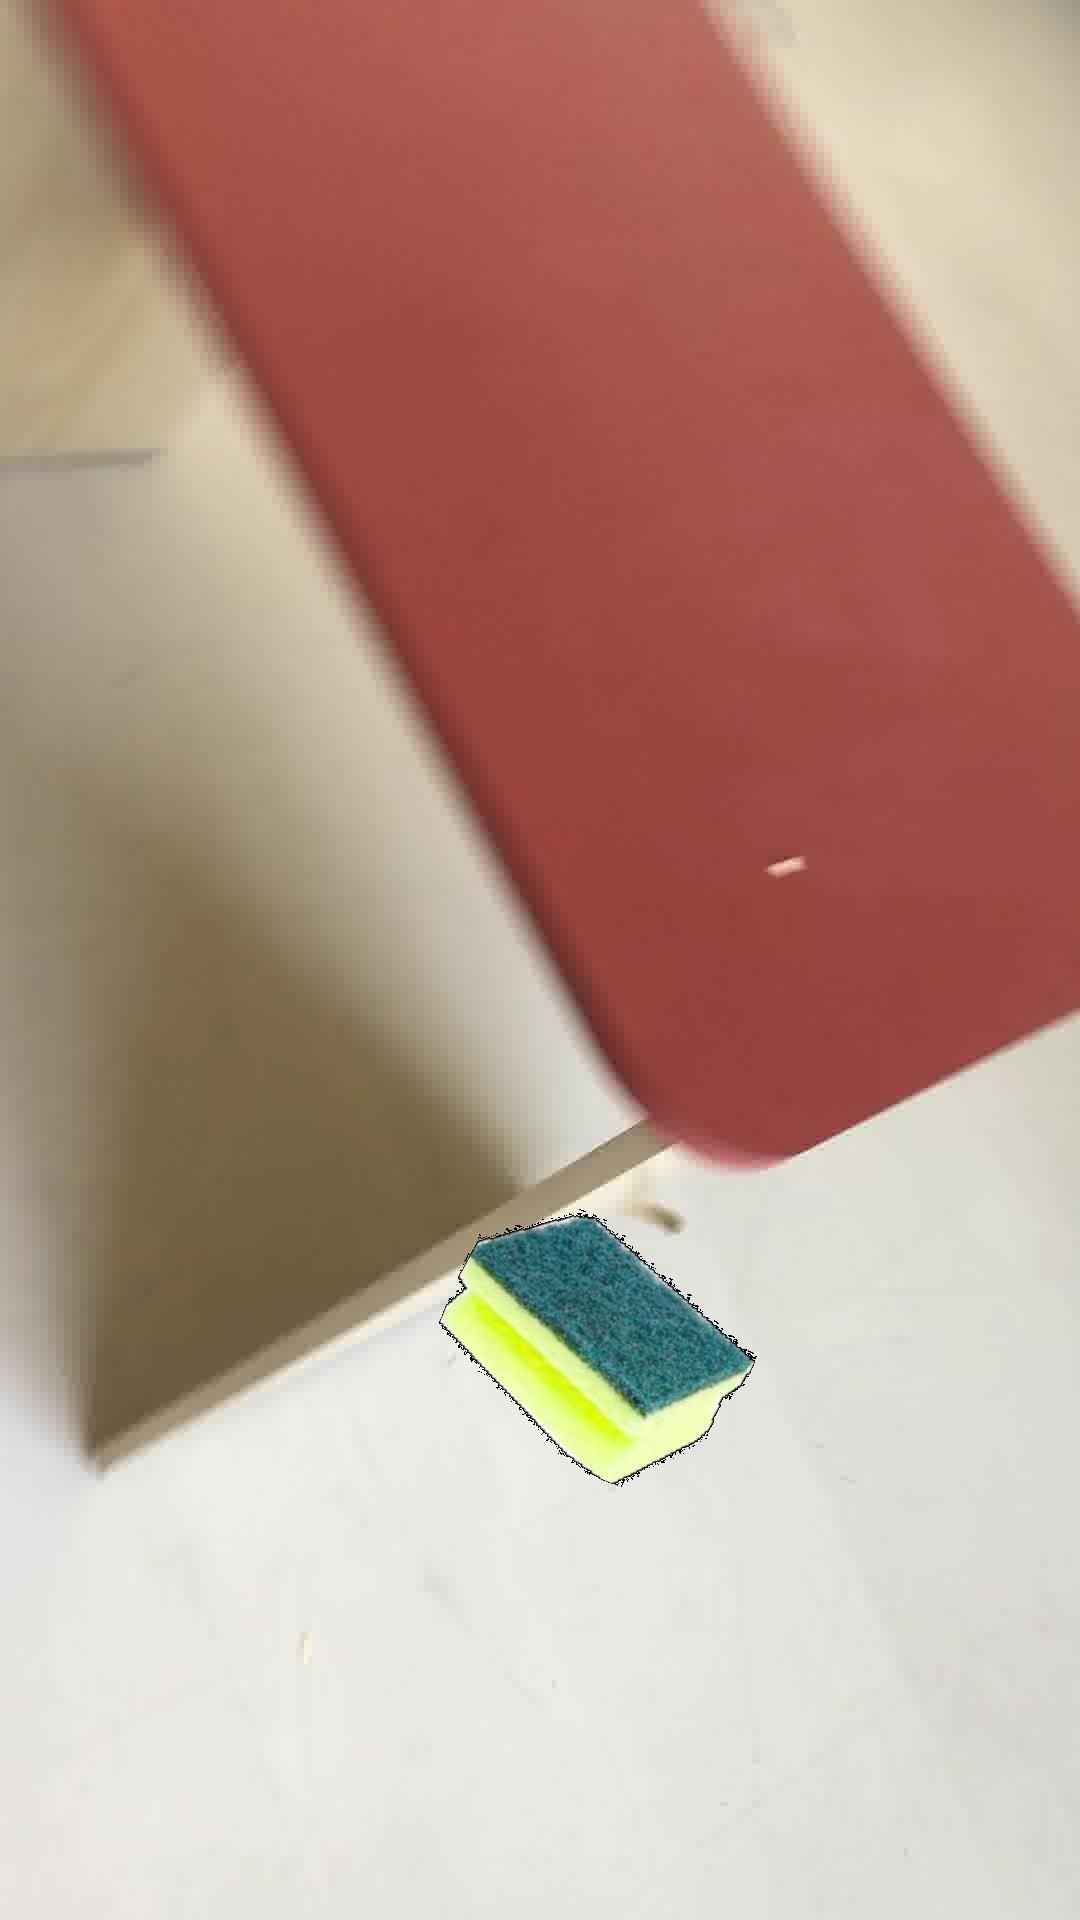sponge: (438, 1212, 756, 1485)
